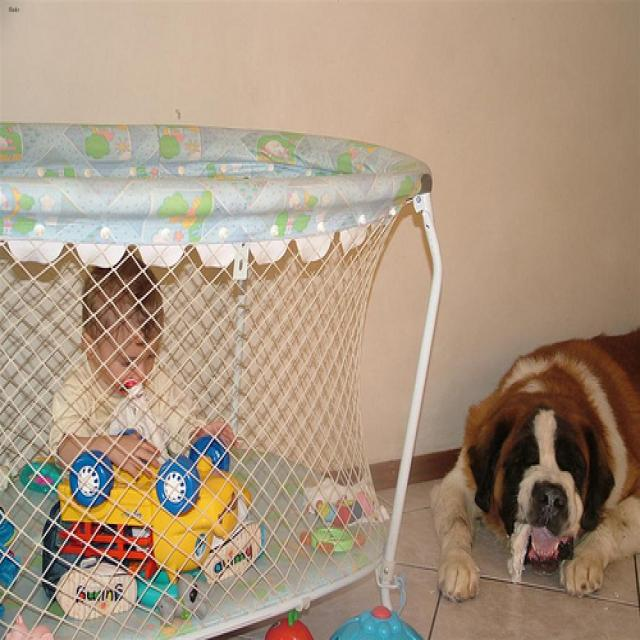dog-saint_bernard: (421, 317, 637, 611)
